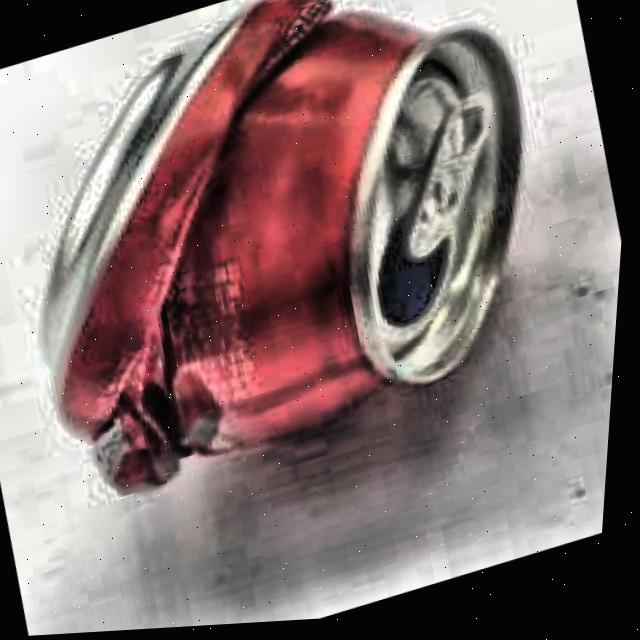metal: (40, 0, 527, 506)
